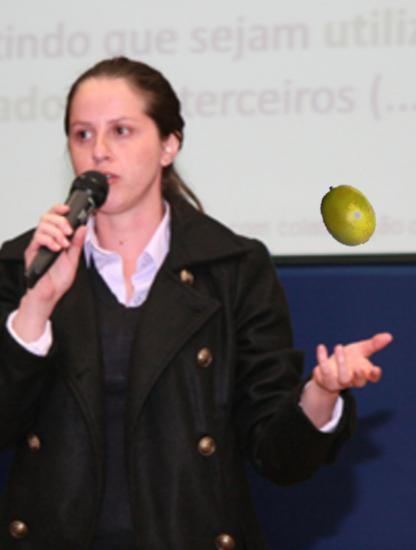Maracuja: (314, 182, 381, 249)
